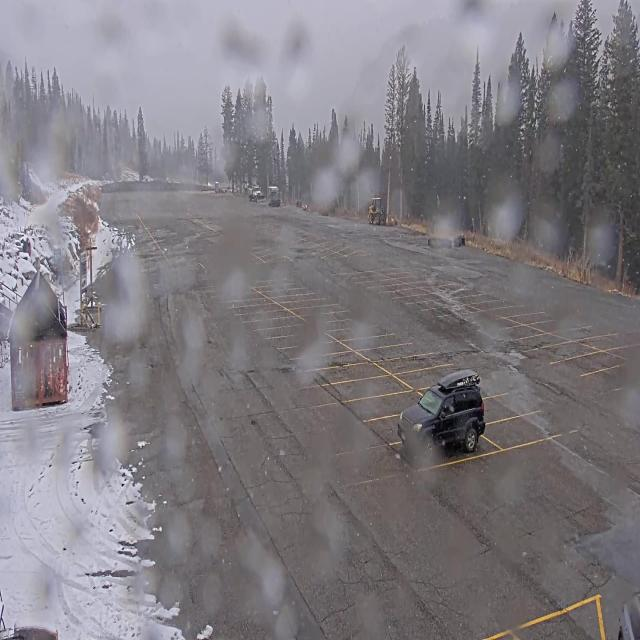available: (490, 414, 544, 443), (363, 409, 402, 448), (360, 389, 413, 414), (482, 387, 524, 415), (573, 349, 613, 373), (348, 374, 400, 392), (551, 338, 580, 361), (337, 360, 374, 376), (415, 366, 450, 382), (528, 330, 556, 348), (564, 324, 594, 340), (590, 331, 618, 348), (354, 334, 390, 347), (507, 321, 530, 341), (326, 351, 358, 365), (534, 317, 562, 333), (393, 356, 430, 368), (614, 341, 636, 359), (376, 345, 406, 358), (321, 337, 346, 351)
occupied: (403, 368, 486, 453)
